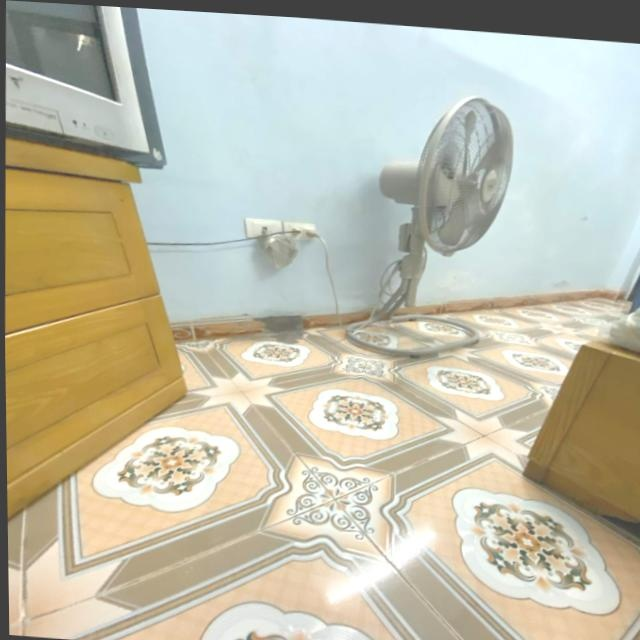outlet: (243, 217, 281, 241), (283, 220, 317, 242)
